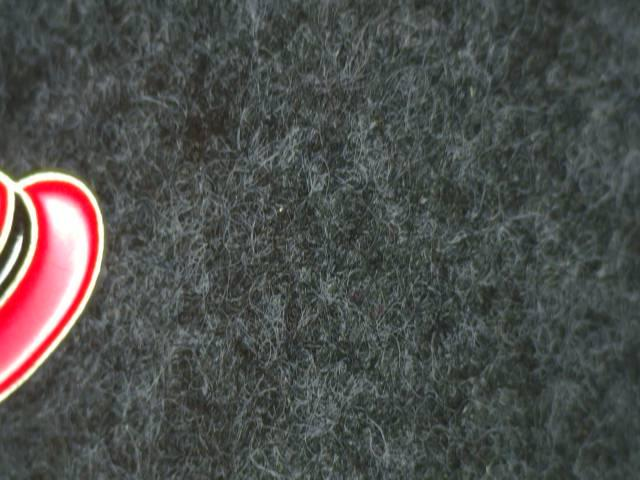Red-Hat: (0, 148, 139, 422)
